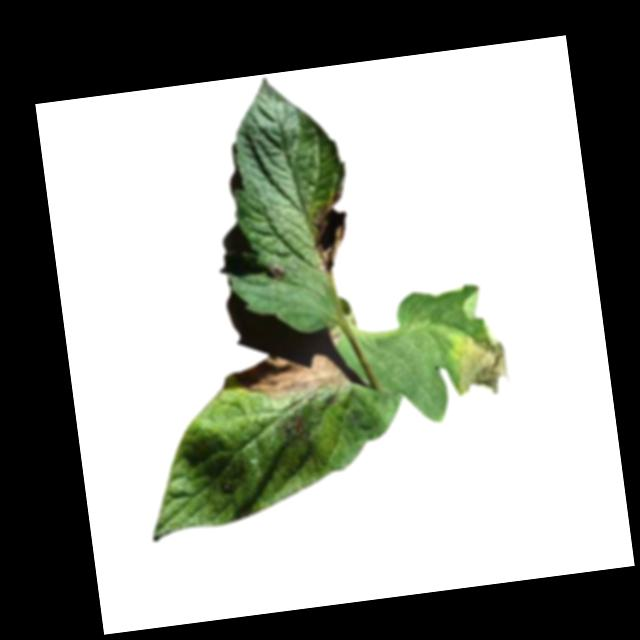Late_blight: (228, 345, 350, 403), (447, 327, 512, 400), (304, 183, 354, 275), (264, 261, 286, 284), (329, 329, 341, 345)
